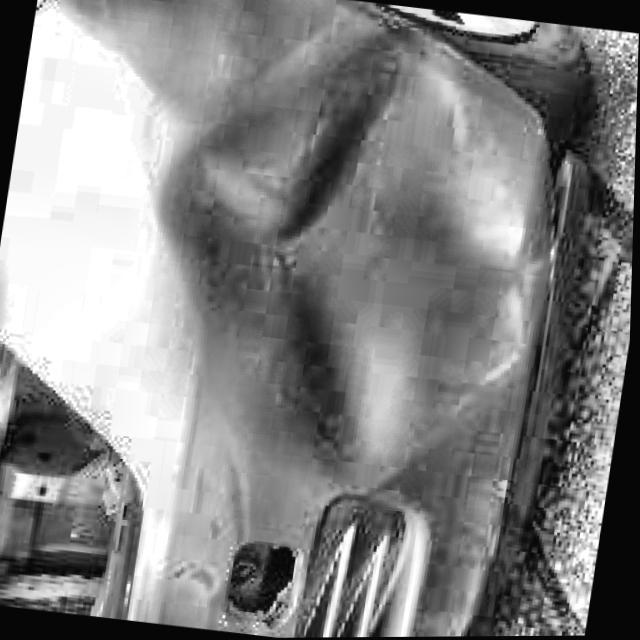bumper_dent: (120, 0, 584, 508), (209, 528, 314, 632)
